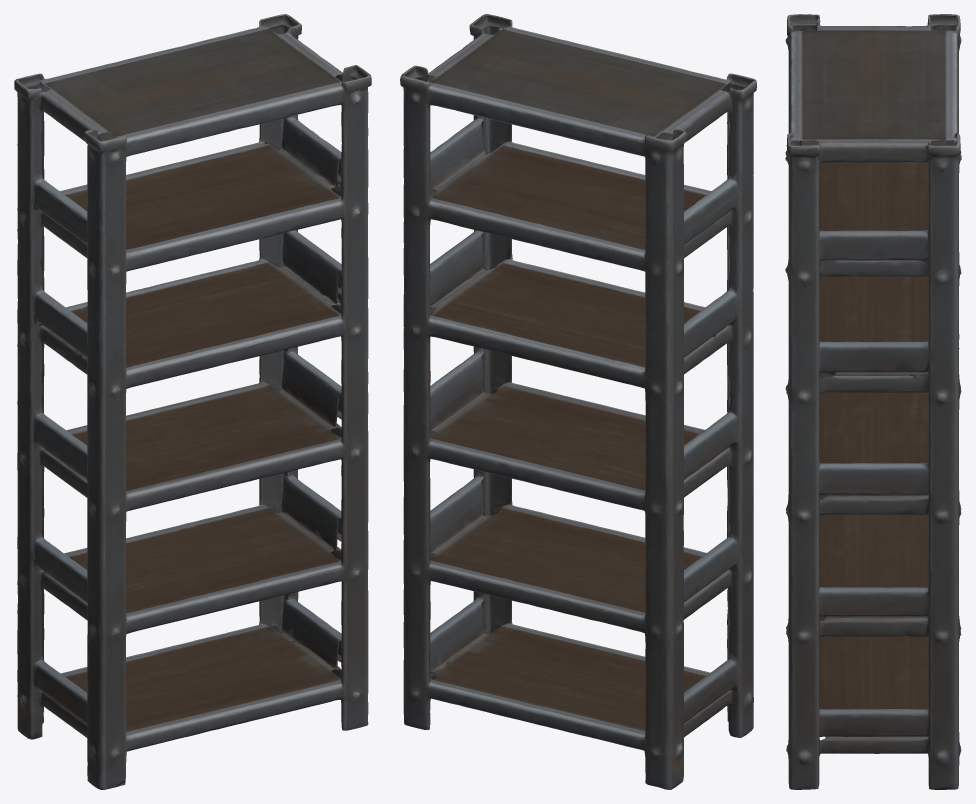
File: facultyoffice_Bookshelf.glb
The picture shows the model from 3 angles, left to right: view 1: azimuth 30°, elevation 25°; view 2: azimuth 150°, elevation 25°; view 3: azimuth 270°, elevation 25°; orthographic projection.
Parts seen in each view (by area): view 1: world; view 2: world; view 3: world.
Boxes of the visible parts, x1,y1,x2,y2 form: world: (14,14,371,789); world: (400,14,756,789); world: (785,14,961,789).
Bounding box in the file's own units: 0.4421 × 1 × 0.2476.
1 material, 1 textured.
